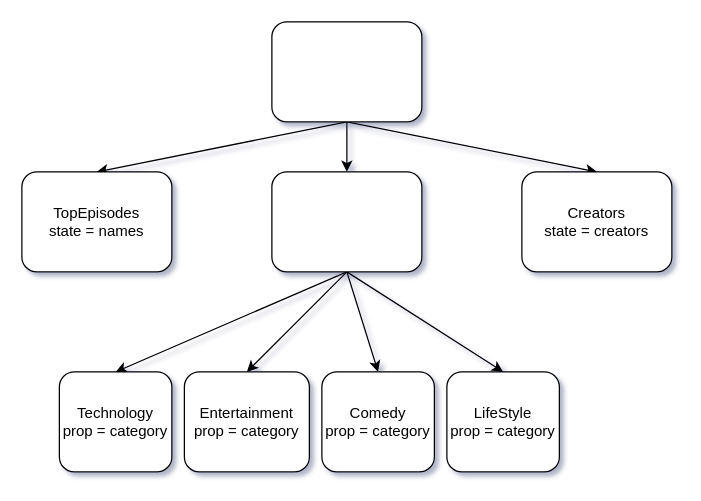
Image size: 701x501. Some labels were removed from this diagram. The box of each missing label's shape, as (x1, y1, x2, y2) in pixels:
Categories state = categories: (271, 171, 422, 272)
HomaPage: (271, 21, 422, 122)
